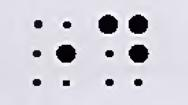dalaga: (98, 14, 150, 86)
dot_5: (32, 20, 76, 87)
